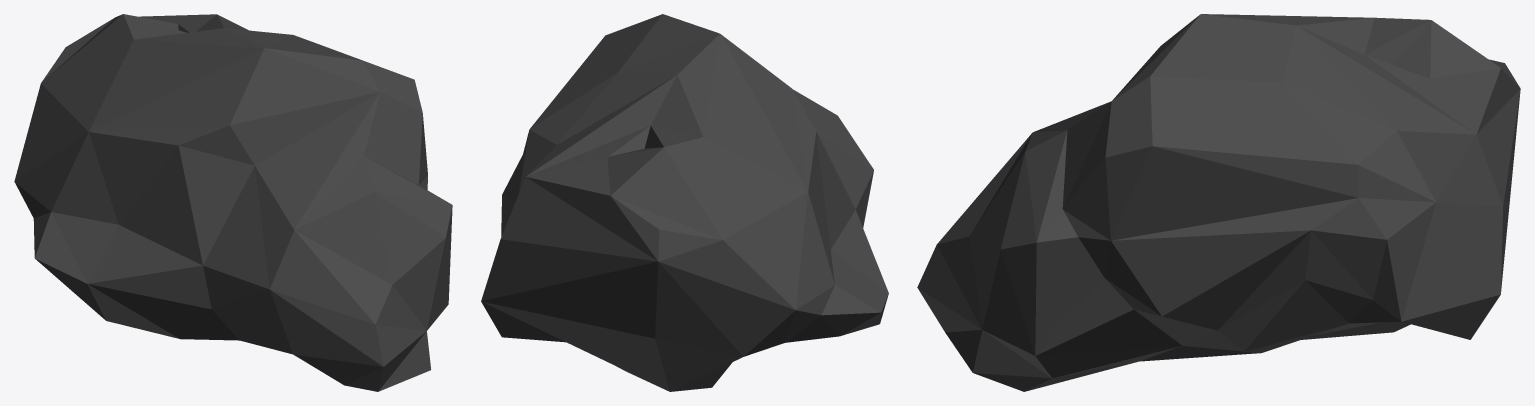
Rendered from stoun_7.fbx.
3 views of the same model, side by side, from view 1: azimuth 30°, elevation 25°; view 2: azimuth 150°, elevation 25°; view 3: azimuth 270°, elevation 25° (orthographic). The views are drawn at different scales.
Parts seen in each view (by area): view 1: Object.007; view 2: Object.007; view 3: Object.007.
Part boxes in pixels (bbox=[...]): Object.007: bbox=[14, 14, 452, 391]; Object.007: bbox=[481, 14, 888, 391]; Object.007: bbox=[917, 14, 1520, 391].
Size of the model in its own units: 273 by 224 by 365.
